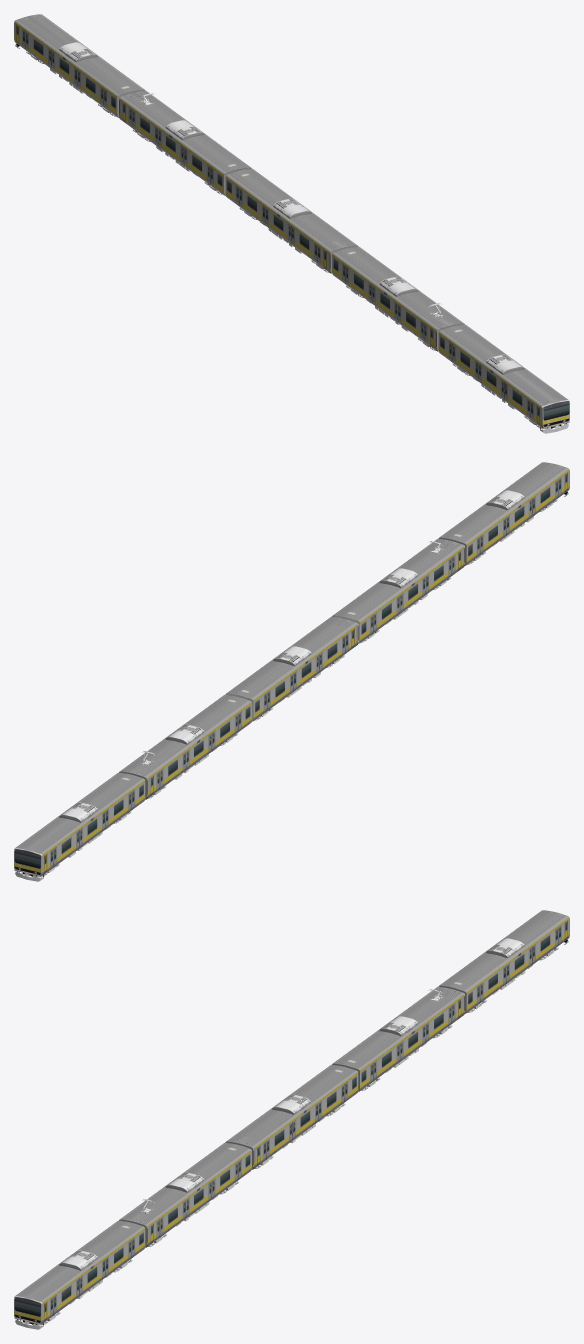
File: train_UVs_changed.fbx
3 views of the same model, one above another, from view 1: azimuth 30°, elevation 25°; view 2: azimuth 150°, elevation 25°; view 3: azimuth 330°, elevation 25° (orthographic).
Visible parts, largest first — view 1: E231full:cylinder12111132; view 2: E231full:cylinder12111132; view 3: E231full:cylinder12111132.
Boxes of the visible parts, box(x1,y1,x2,y2) form: E231full:cylinder12111132: box(14, 14, 569, 433); E231full:cylinder12111132: box(14, 462, 569, 881); E231full:cylinder12111132: box(14, 910, 569, 1329).
Bounding box in the file's own units: 40.11 × 56.36 × 1321.
Materials: 1 (1 with a texture image).
